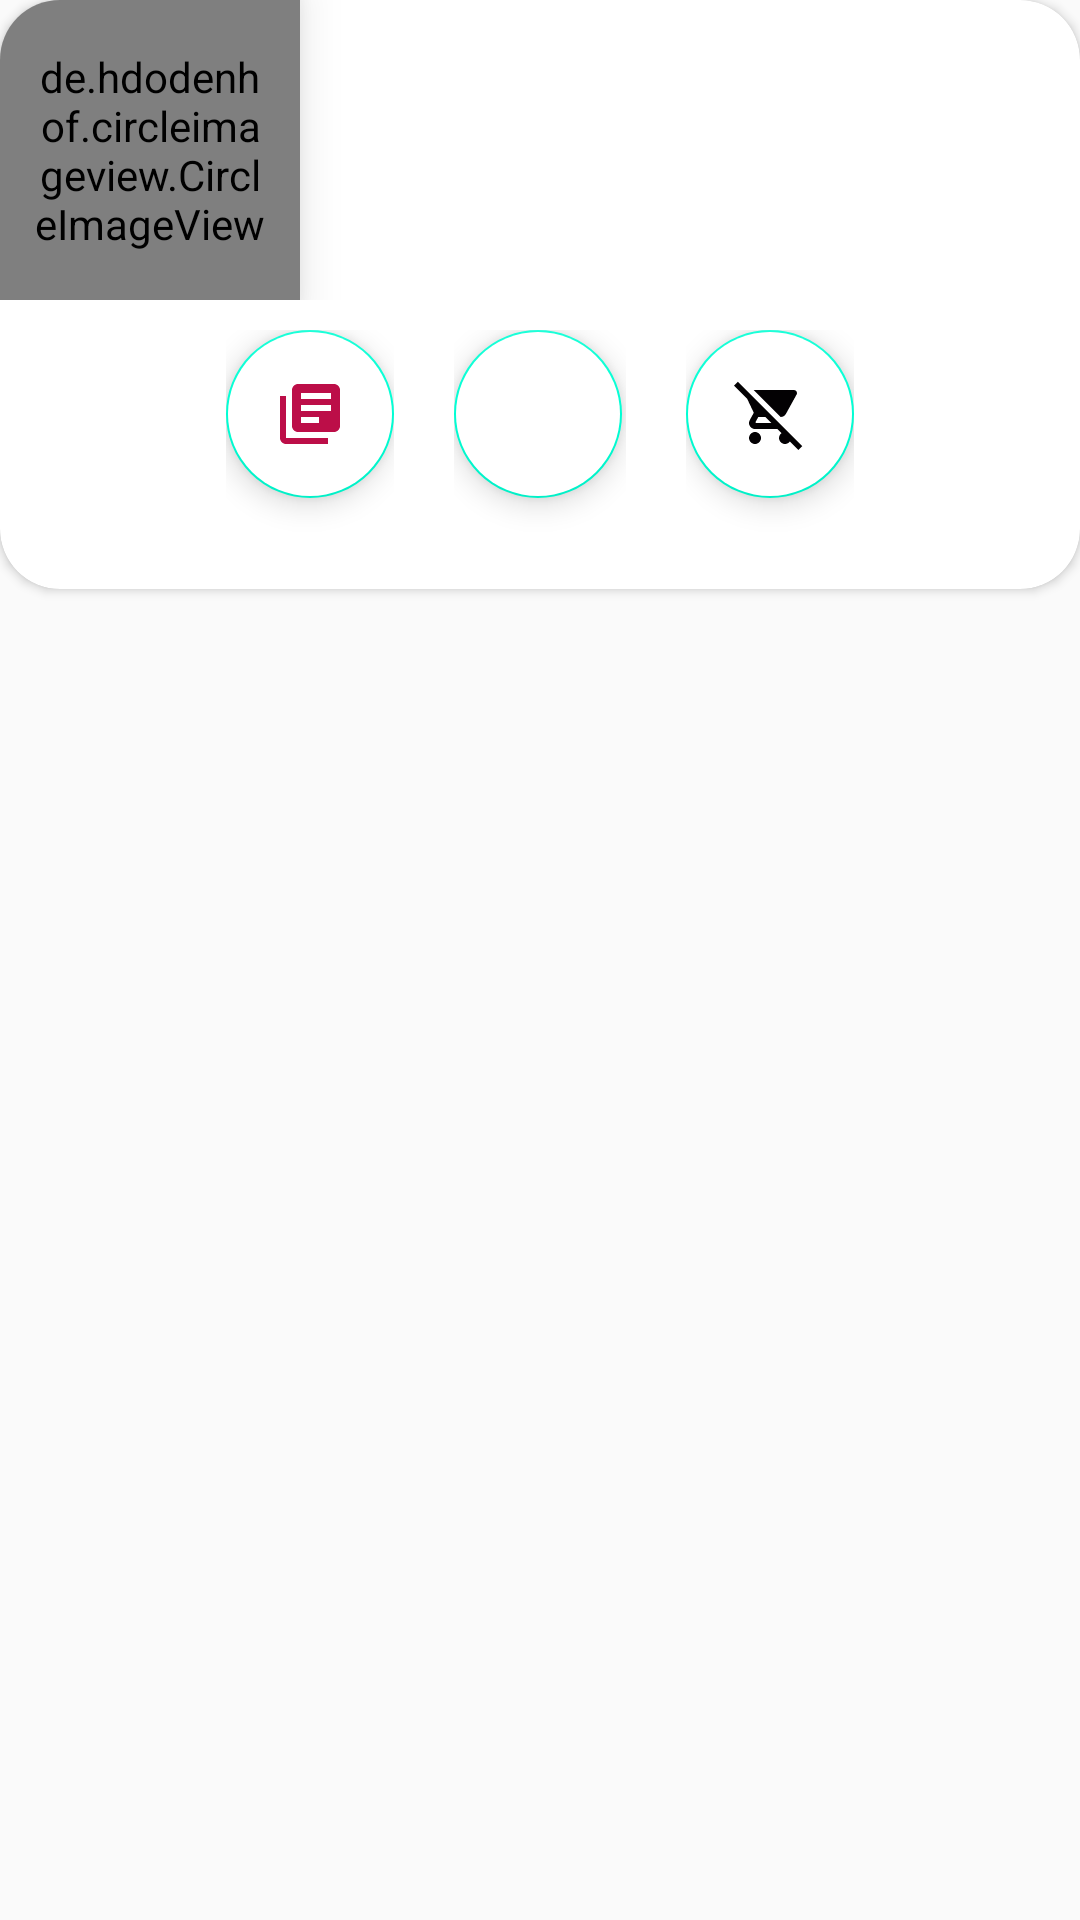

Icons on this 1080*1920 Android screen, each with its box as (x1, y1, x2, y2):
library books: (226, 330, 394, 498)
